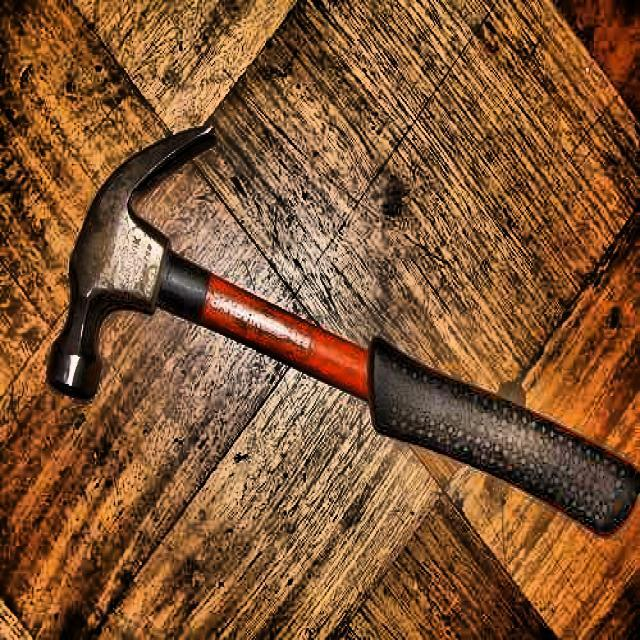hammer: (46, 124, 640, 541)
